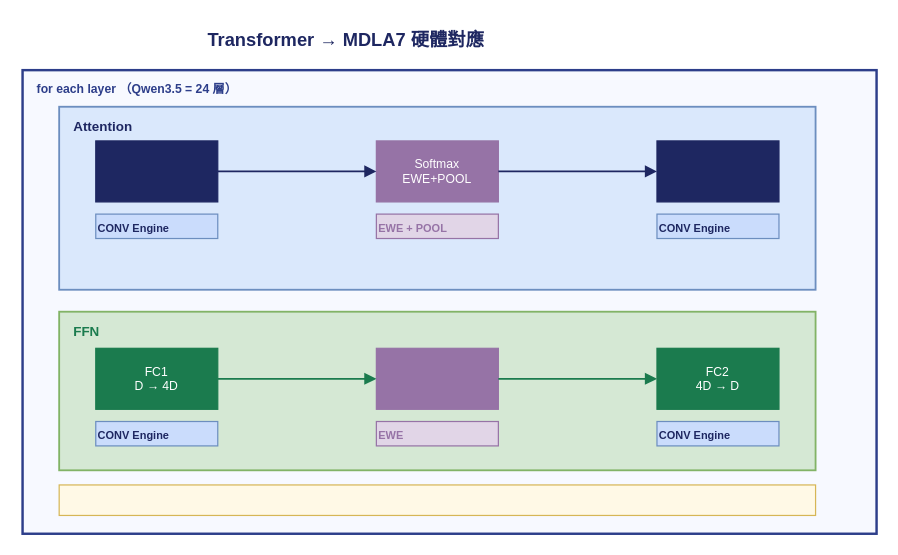
This 898x555 diagram has some shape labels left out. Each missing label, with the centre of its shape:
"BMM1 Q × K^T" goes at pixel 156 171.
"BMM2 probs × V" goes at pixel 717 171.
"GELU 激活函數" goes at pixel 436 378.
"所有中間結果在 L1Mesh（3MB）↔ DRAM（4GB）之間搬運" goes at pixel 437 499.
